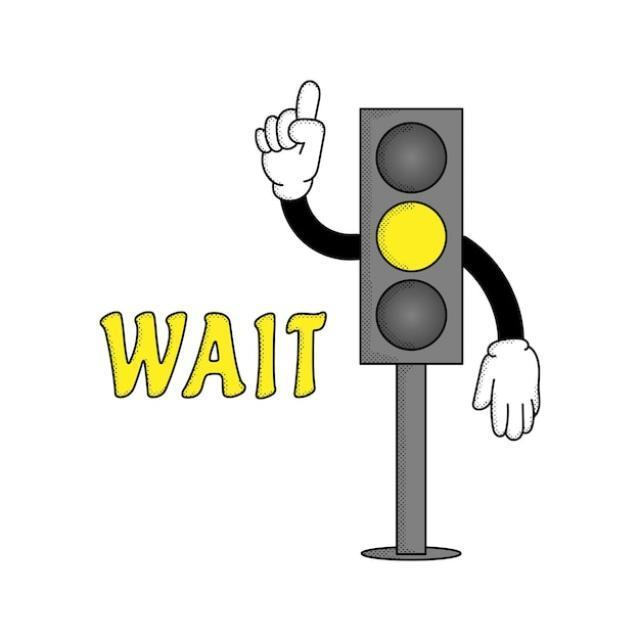yellow_light: (359, 107, 461, 363)
